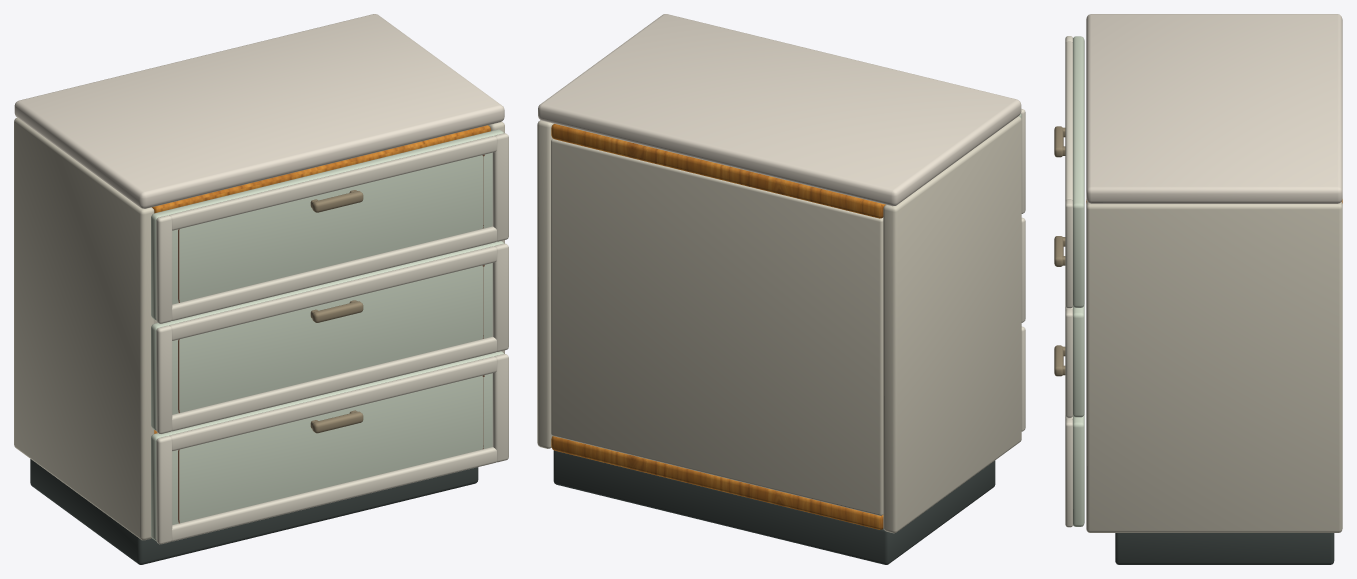
The model's file is shaker-drawer-cabinet.glb.
3 renders of one model, left to right at view 1: azimuth 30°, elevation 25°; view 2: azimuth 150°, elevation 25°; view 3: azimuth 270°, elevation 25°, orthographic.
Parts seen in each view (by area): view 1: shaker-drawer-cabinet; view 2: shaker-drawer-cabinet; view 3: shaker-drawer-cabinet.
Boxes of the visible parts, bbox=[...] form: shaker-drawer-cabinet: bbox=[14, 14, 508, 564]; shaker-drawer-cabinet: bbox=[537, 14, 1025, 564]; shaker-drawer-cabinet: bbox=[1054, 14, 1342, 564].
Bounding box in the file's own units: 0.9 × 0.91 × 0.62.
8 materials, 1 textured.
